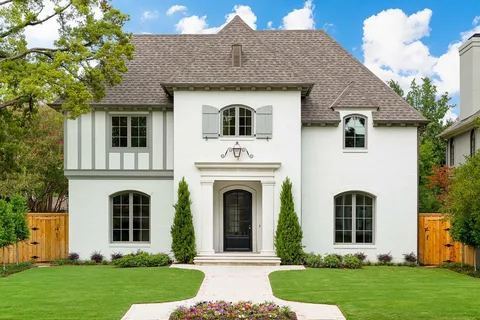private_hause: (53, 12, 426, 270)
